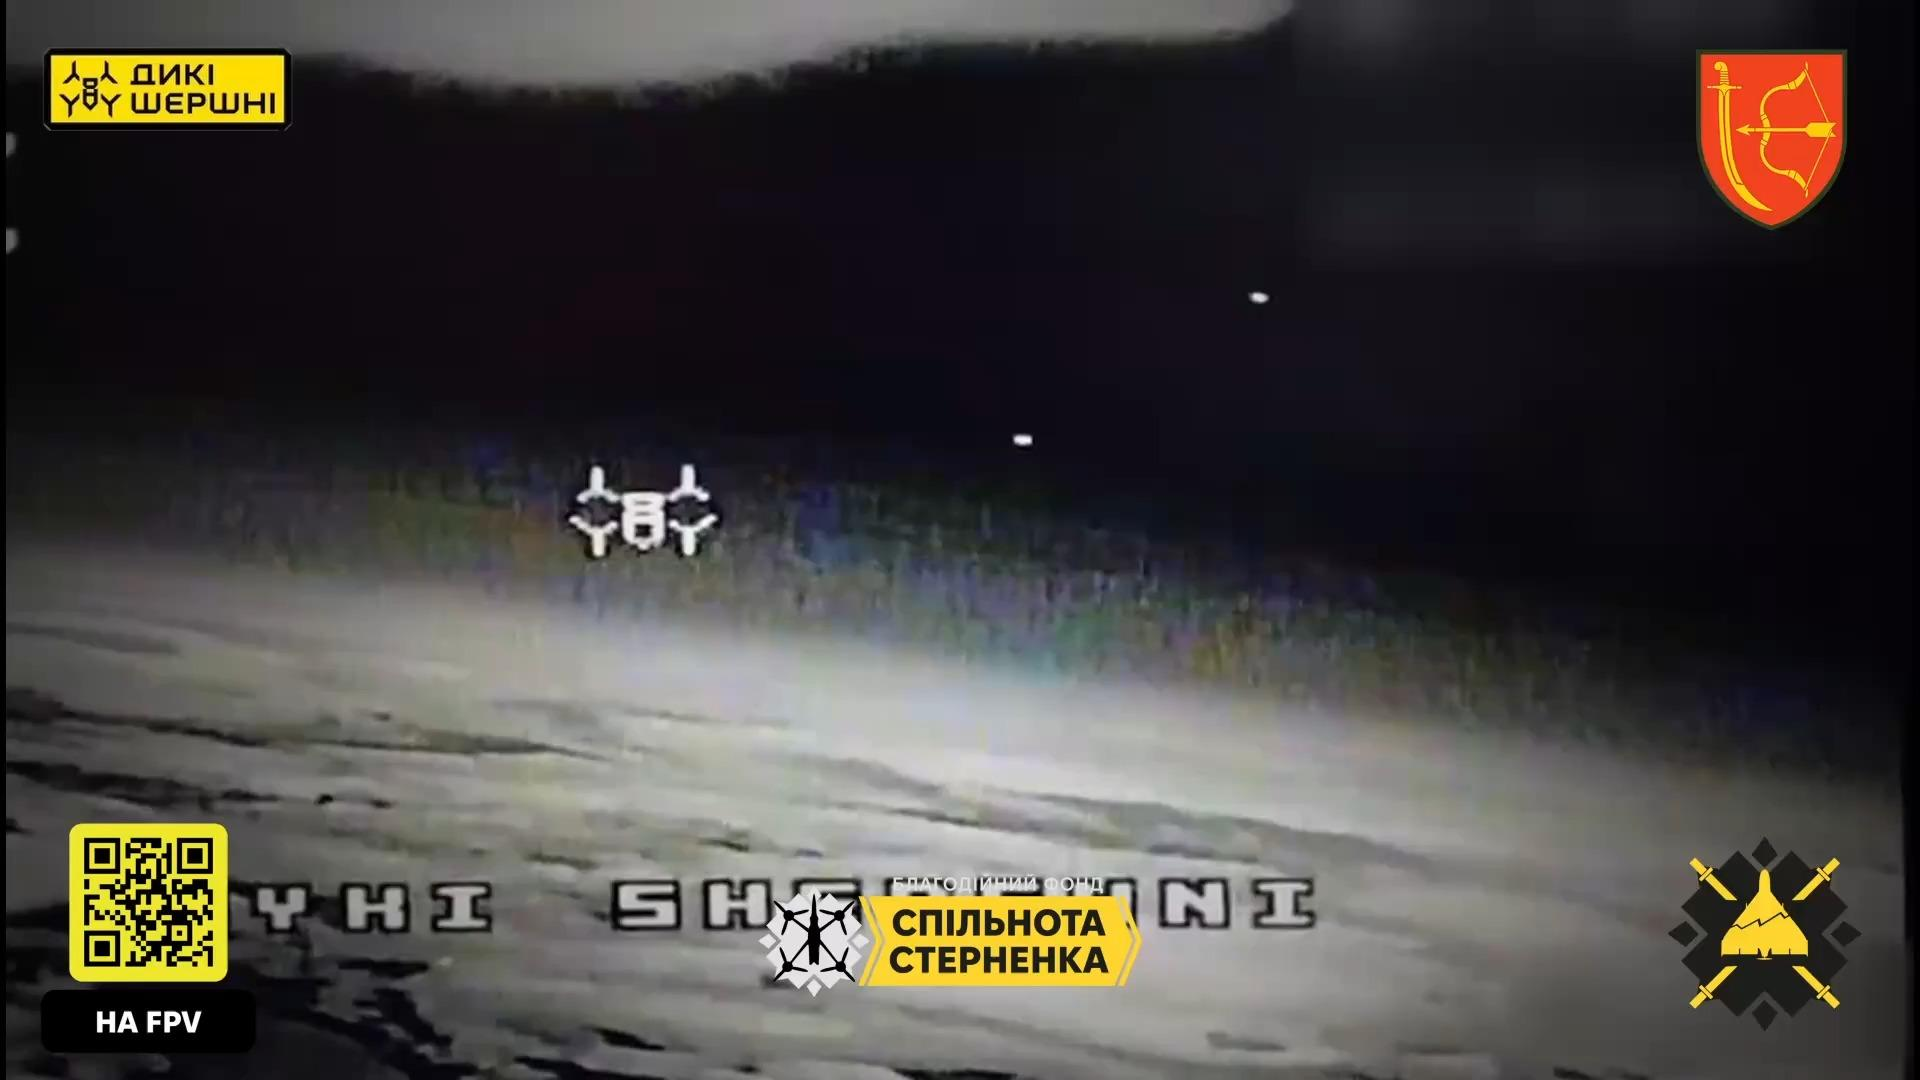Gerbera: (1013, 433, 1034, 447), (1249, 290, 1270, 305)
